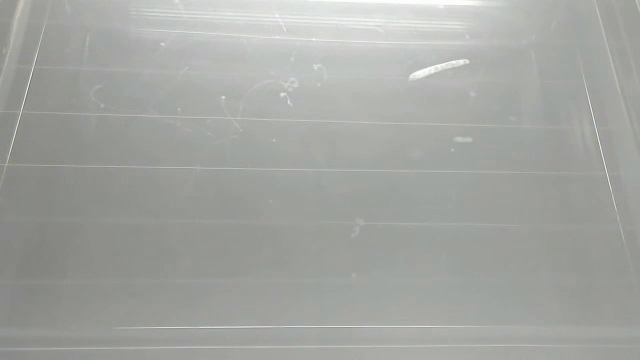alpha: (406, 57, 472, 82), (452, 134, 475, 146)
